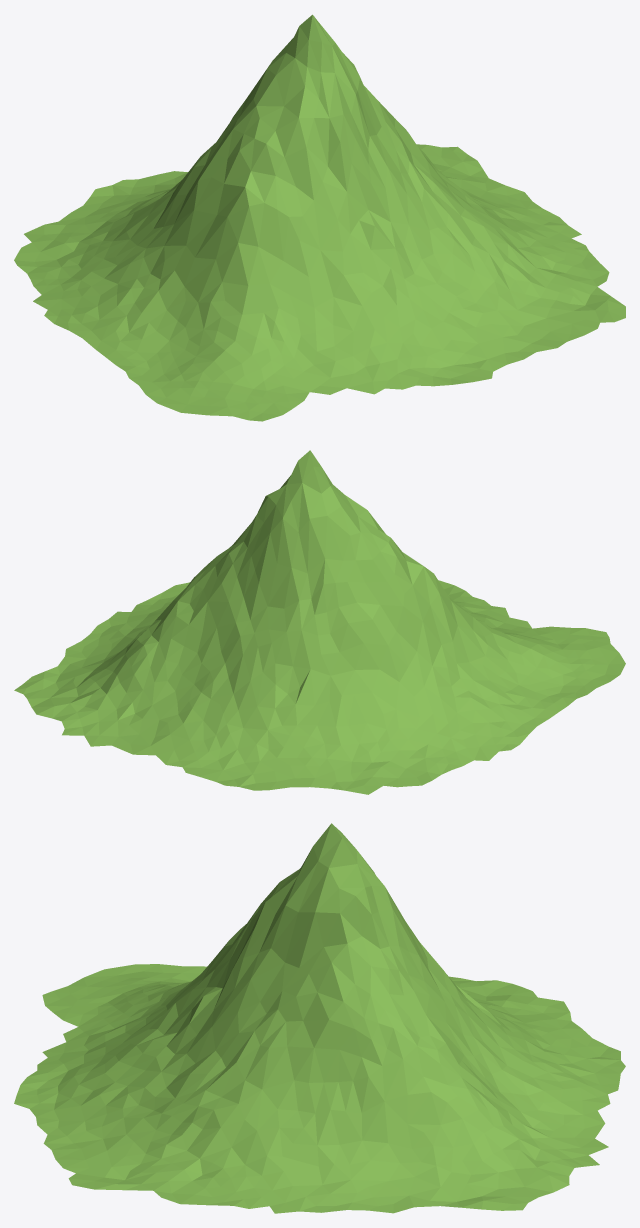
File: MT_Mountain_L_a_34.fbx
The picture shows the model from 3 angles, top to bottom: view 1: azimuth 30°, elevation 25°; view 2: azimuth 150°, elevation 25°; view 3: azimuth 270°, elevation 25°; orthographic projection. The views are drawn at different scales.
Visible parts, largest first — view 1: MT_Mountain_L_a_34; view 2: MT_Mountain_L_a_34; view 3: MT_Mountain_L_a_34.
Boxes of the visible parts, <box> form: MT_Mountain_L_a_34: <box>14,14,625,421</box>; MT_Mountain_L_a_34: <box>14,450,625,794</box>; MT_Mountain_L_a_34: <box>14,823,625,1213</box>.
Size of the model in its own units: 8906 by 4500 by 9258.
